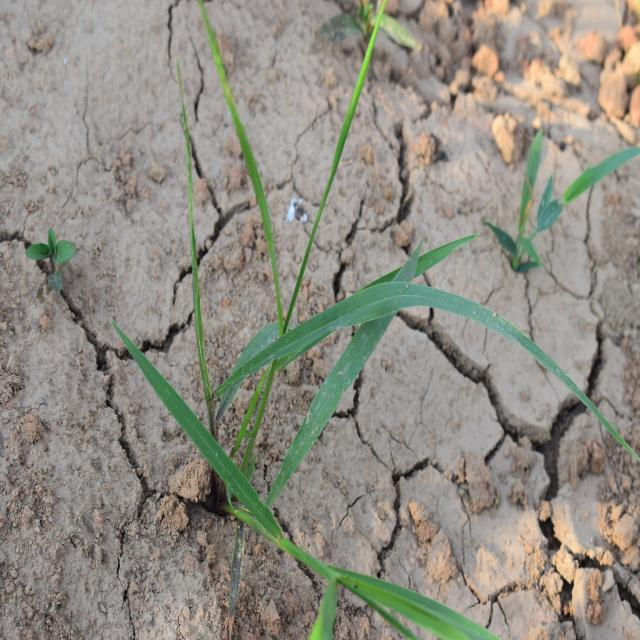green_foxtail: (168, 78, 435, 494)
